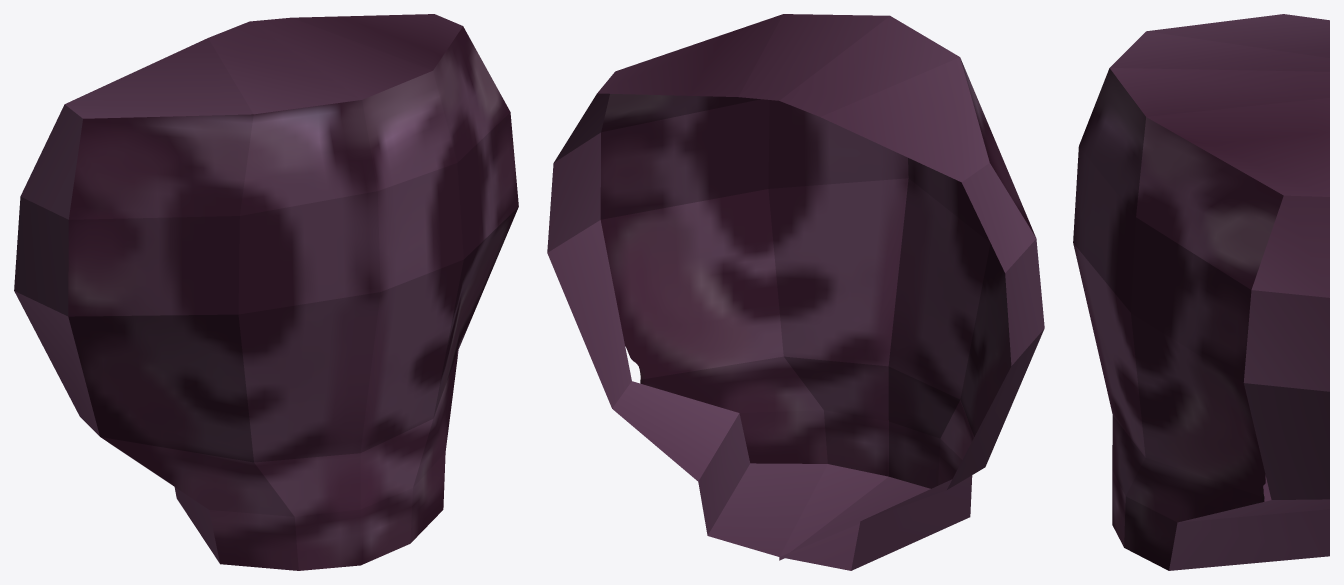
File: Mascara2.fbx
The picture shows the model from 3 angles, left to right: view 1: azimuth 30°, elevation 25°; view 2: azimuth 150°, elevation 25°; view 3: azimuth 270°, elevation 25°; orthographic projection. The views are drawn at different scales.
Visible parts, largest first — view 1: Mascara2; view 2: Mascara2; view 3: Mascara2.
Boxes of the visible parts, x1,y1,x2,y2 form: Mascara2: (14, 14, 518, 570); Mascara2: (547, 14, 1044, 570); Mascara2: (1073, 14, 1329, 570).
Size of the model in its own units: 55.37 by 26.7 by 52.86.
